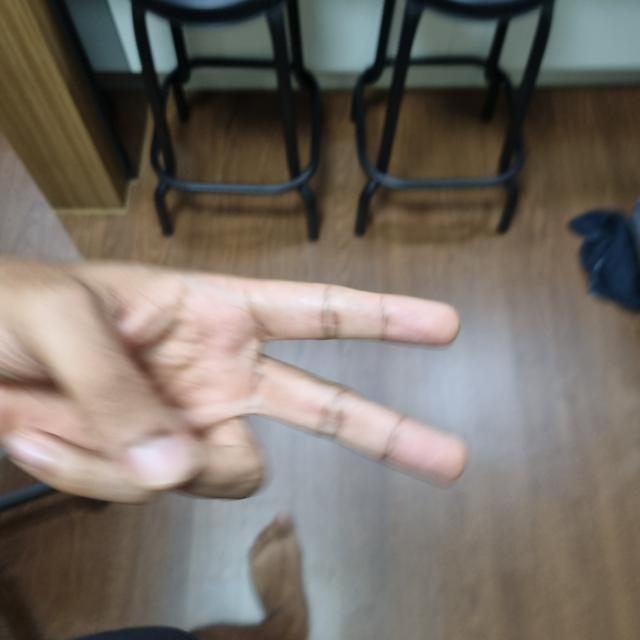Scissors: (0, 264, 460, 492)
